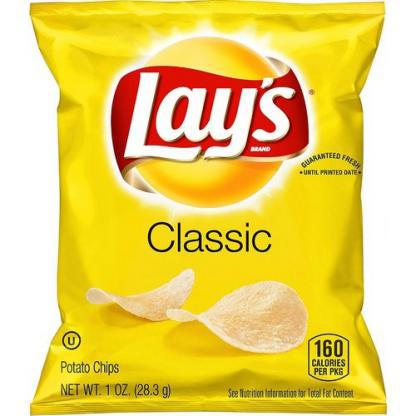classicsalted: (28, 0, 387, 415)
